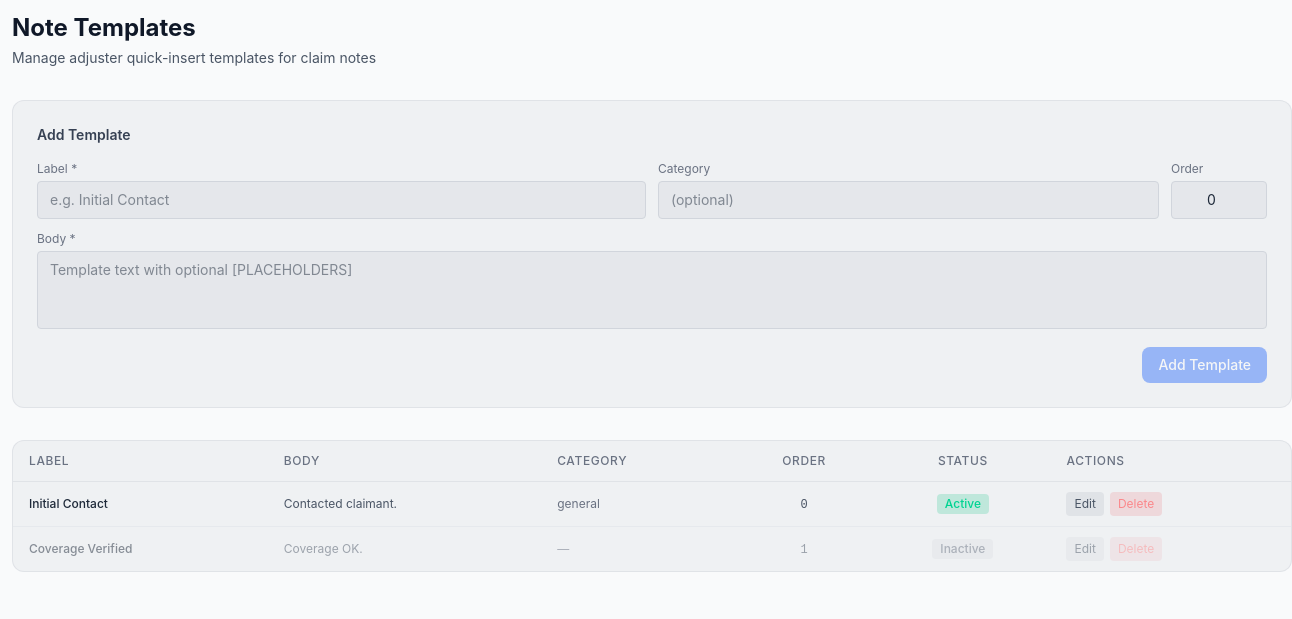
Test: NoteTemplatesAdmin › enters edit mode on edit button click
This screenshot has width=1292, height=619.
Click the button "Edit" in the row of "Initial Contact". click: (1085,504)
box: [1066,492,1104,516]
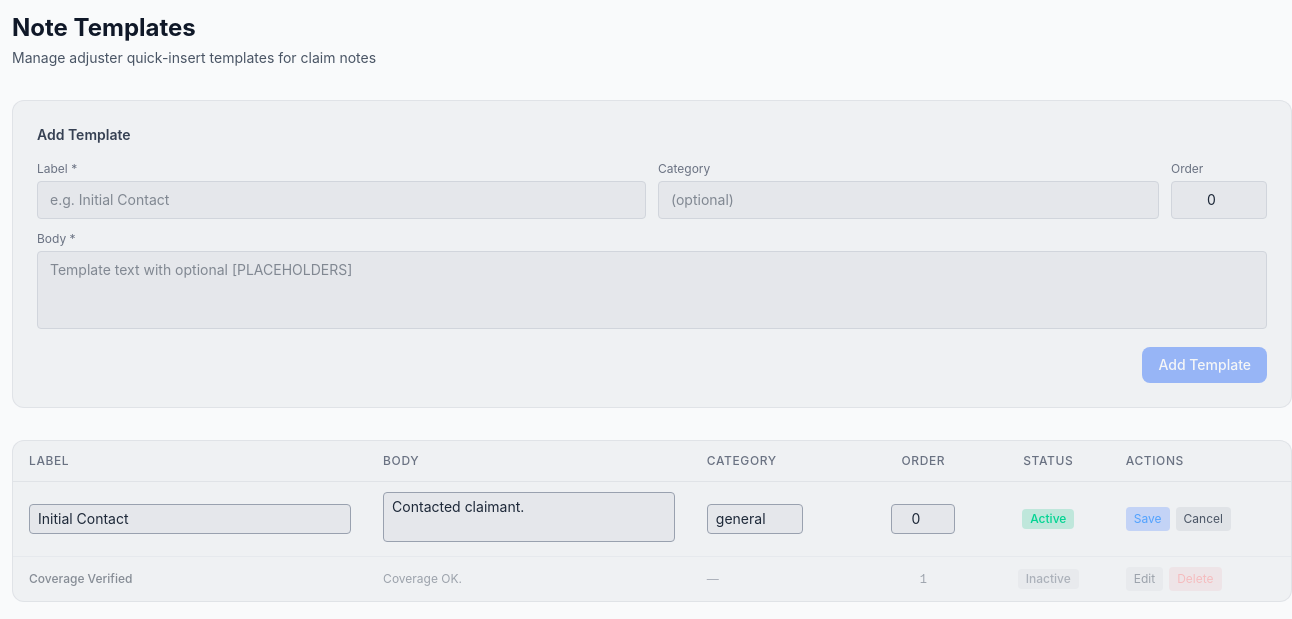
Now the button "Save" is shown, box [1126,507,1170,531]
Now the button "Cancel" is shown, box [1176,507,1231,531]
